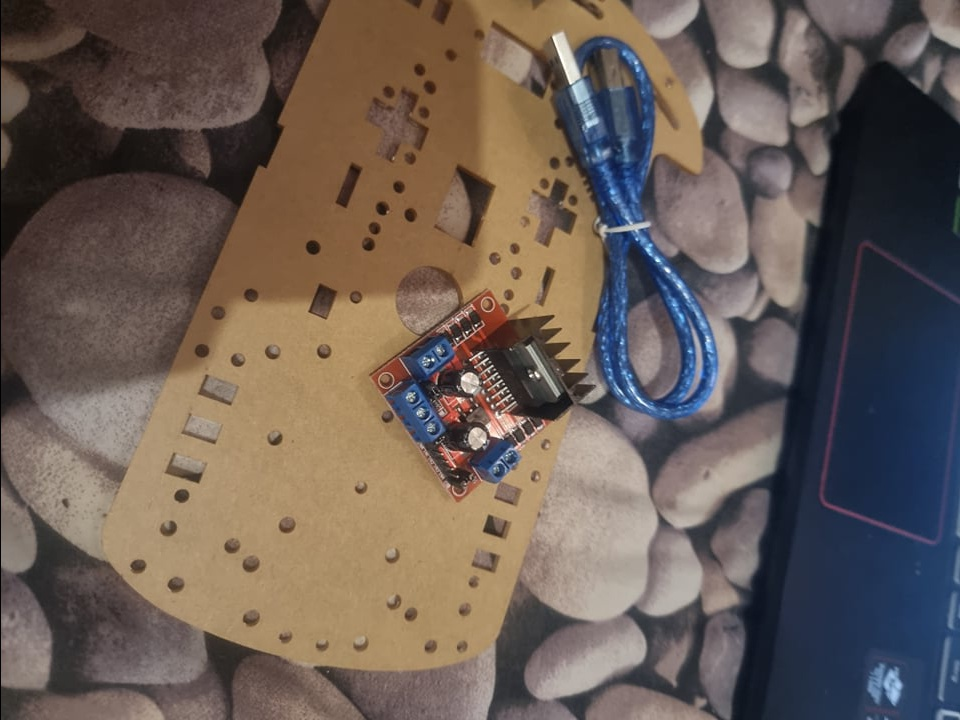MOTOR: (365, 288, 592, 503)
